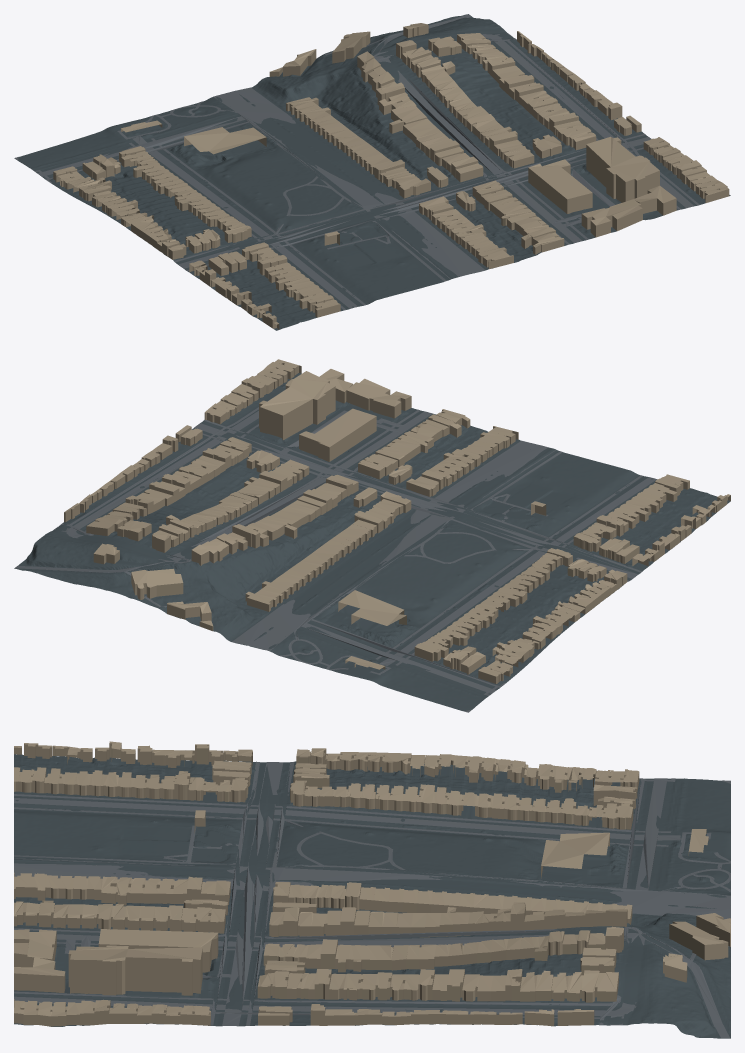
Rendered from epsg26910-1422-10877.lod0.glb.
The picture shows the model from 3 angles, top to bottom: view 1: azimuth 30°, elevation 25°; view 2: azimuth 150°, elevation 25°; view 3: azimuth 270°, elevation 25°; orthographic projection. The views are drawn at different scales.
Visible parts, largest first — view 1: epsg26910-1422-10877-lod0; view 2: epsg26910-1422-10877-lod0; view 3: epsg26910-1422-10877-lod0.
Part boxes in pixels (box(x1,y1,x2,y2)): epsg26910-1422-10877-lod0: box(14, 14, 730, 330); epsg26910-1422-10877-lod0: box(14, 359, 730, 712); epsg26910-1422-10877-lod0: box(14, 741, 730, 1038).
Size of the model in its own units: 384 by 53.65 by 384.
